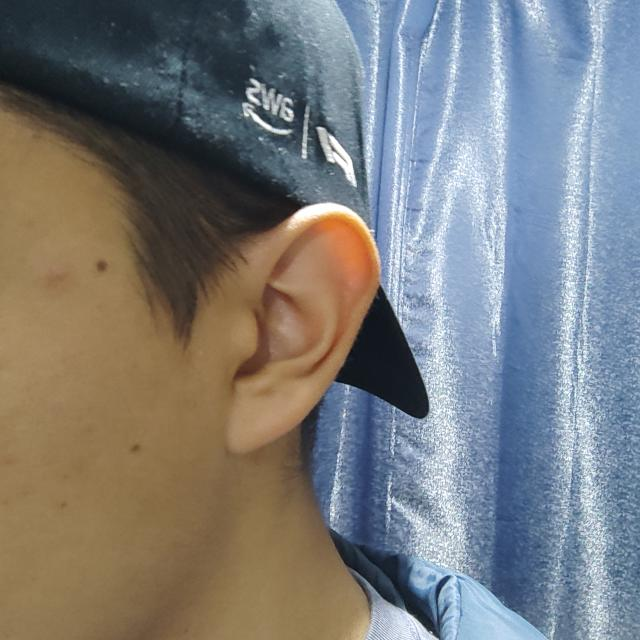ear: (209, 204, 380, 454)
